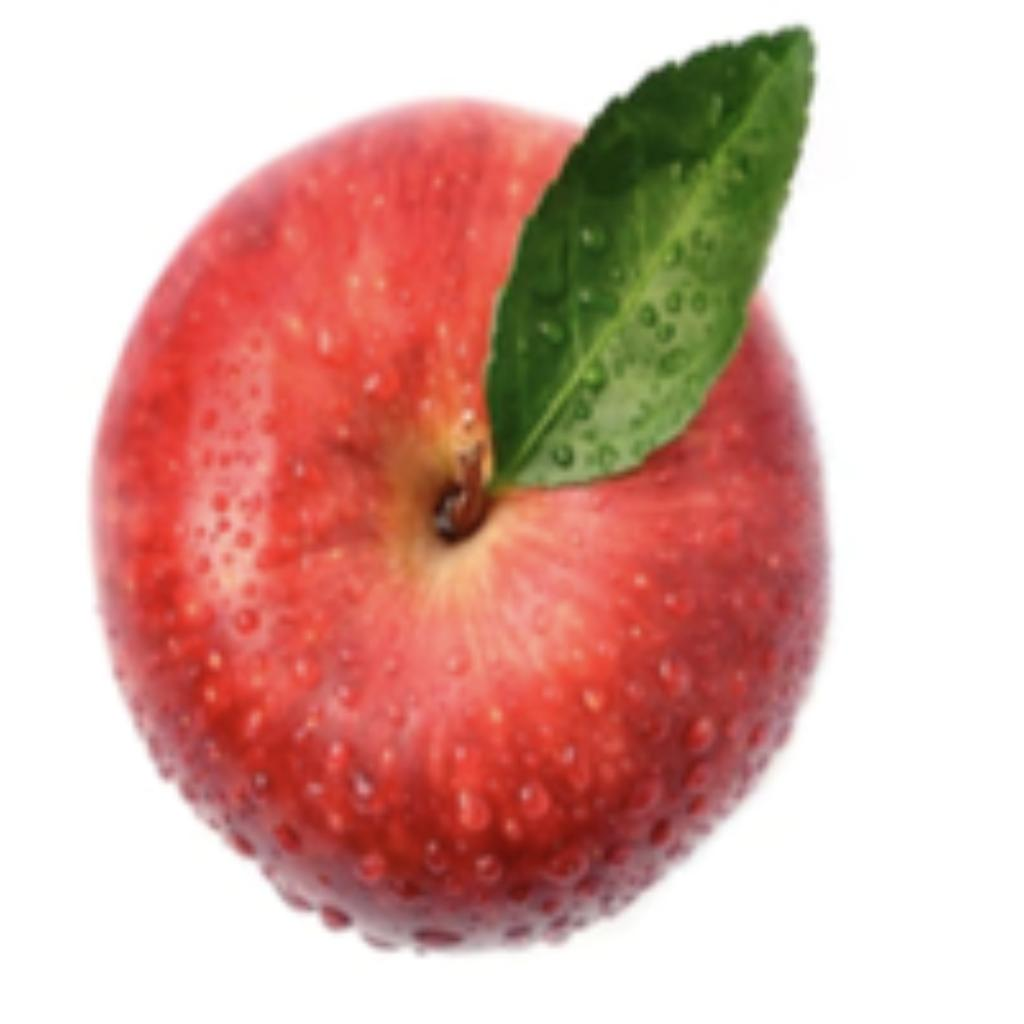apple: (82, 15, 840, 957)
